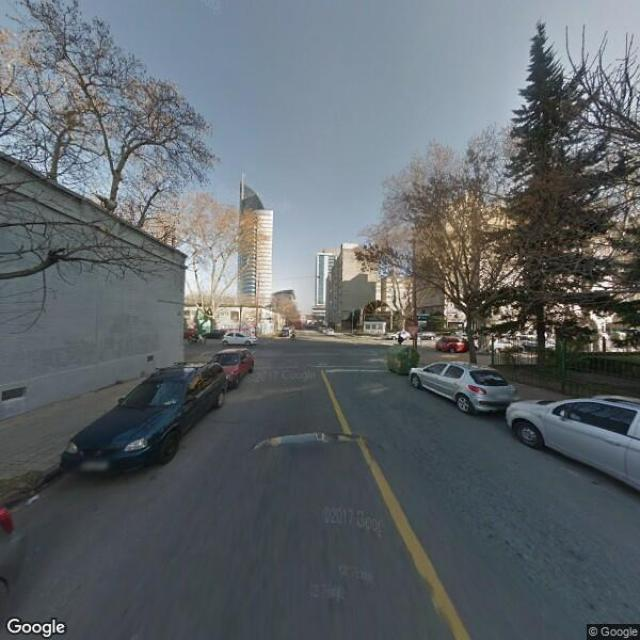garbage container: (384, 339, 421, 380)
